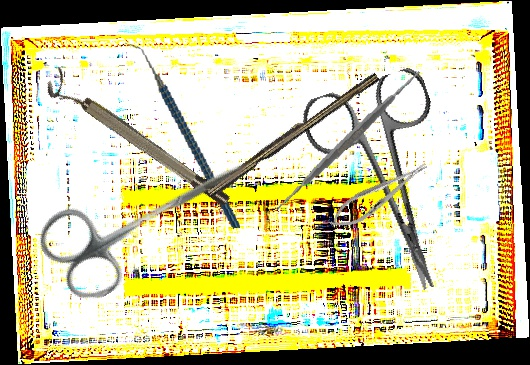Chopper: (123, 29, 241, 242)
Fixation Ring: (42, 67, 233, 218)
Iris Scissors: (296, 64, 486, 310), (29, 118, 269, 312)
Needle Holder: (324, 154, 434, 237)
Scalpel Handle: (204, 67, 381, 201)
Spatula Surgical: (264, 57, 432, 224)
